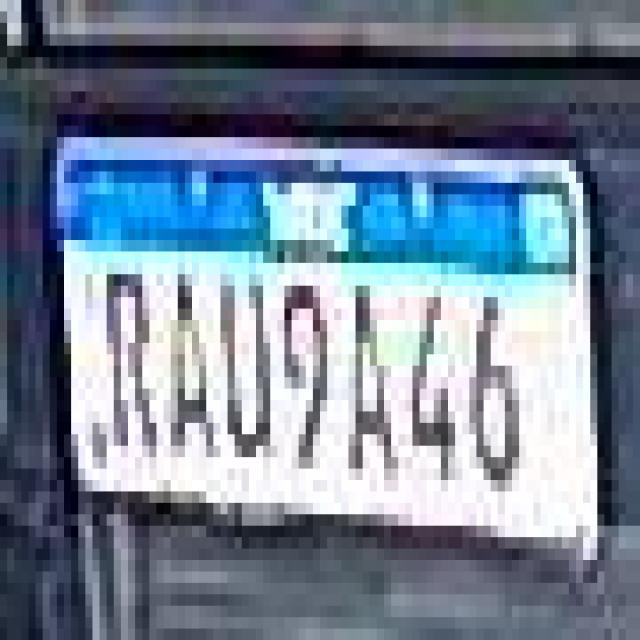4: (403, 266, 462, 484)
6: (463, 270, 526, 491)
9: (266, 272, 344, 477)
A: (162, 256, 218, 468), (348, 261, 396, 486)
R: (85, 253, 160, 454)
U: (208, 224, 276, 460)
